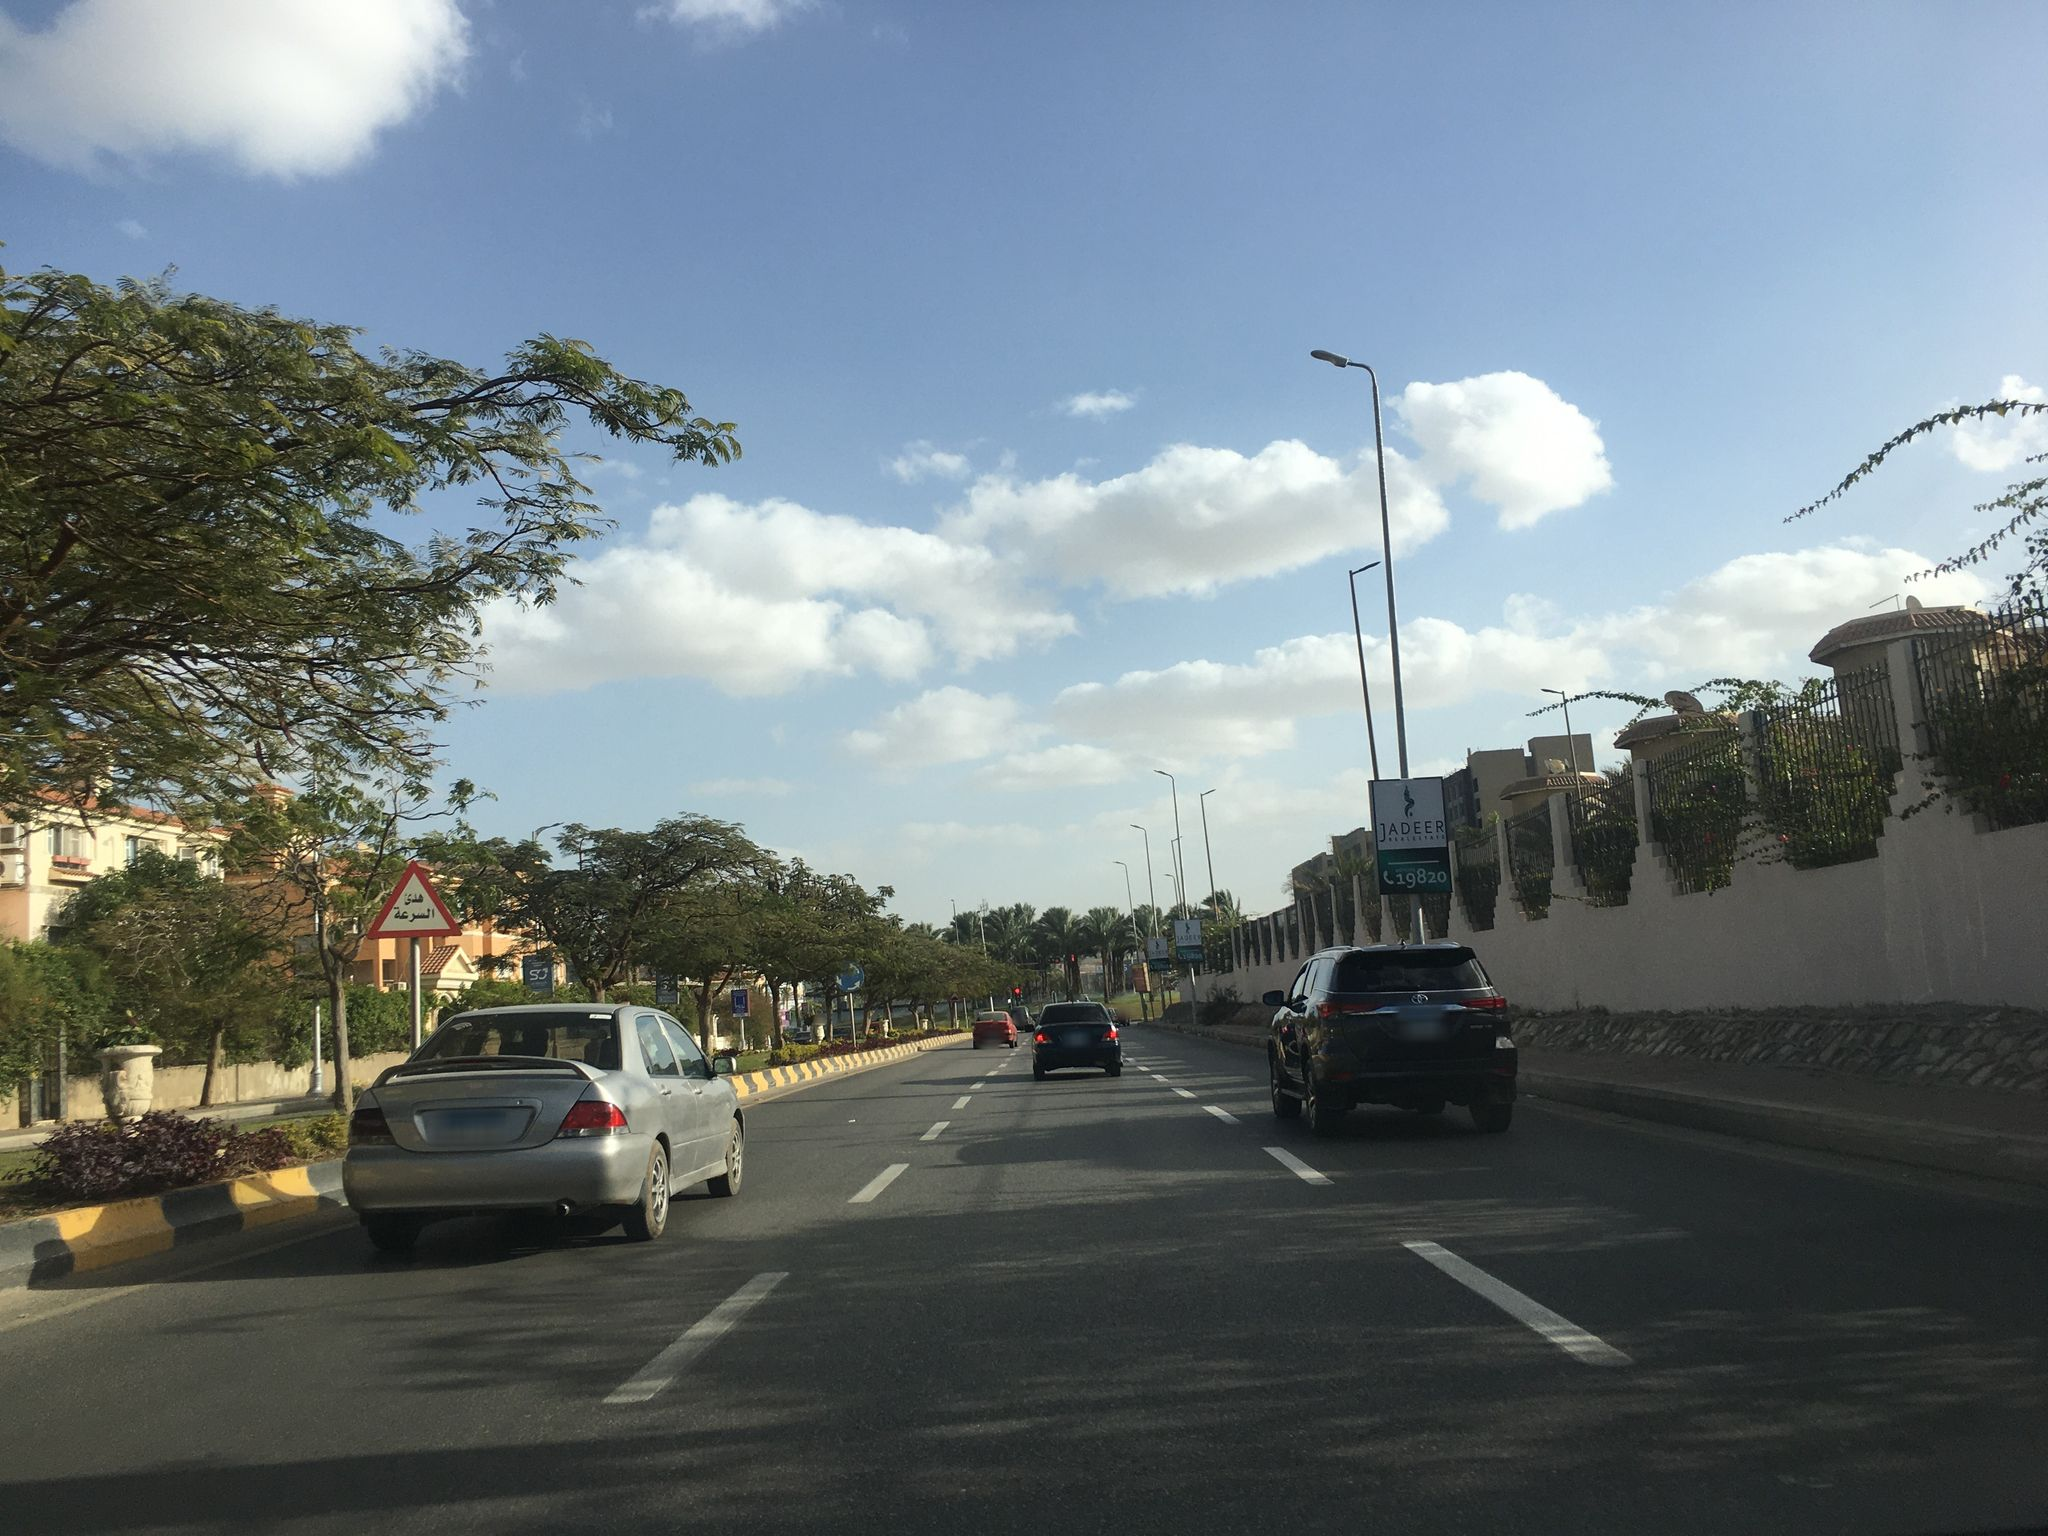car: (340, 999, 747, 1241), (1263, 937, 1522, 1137), (1022, 1000, 1122, 1079), (972, 1010, 1018, 1049)
